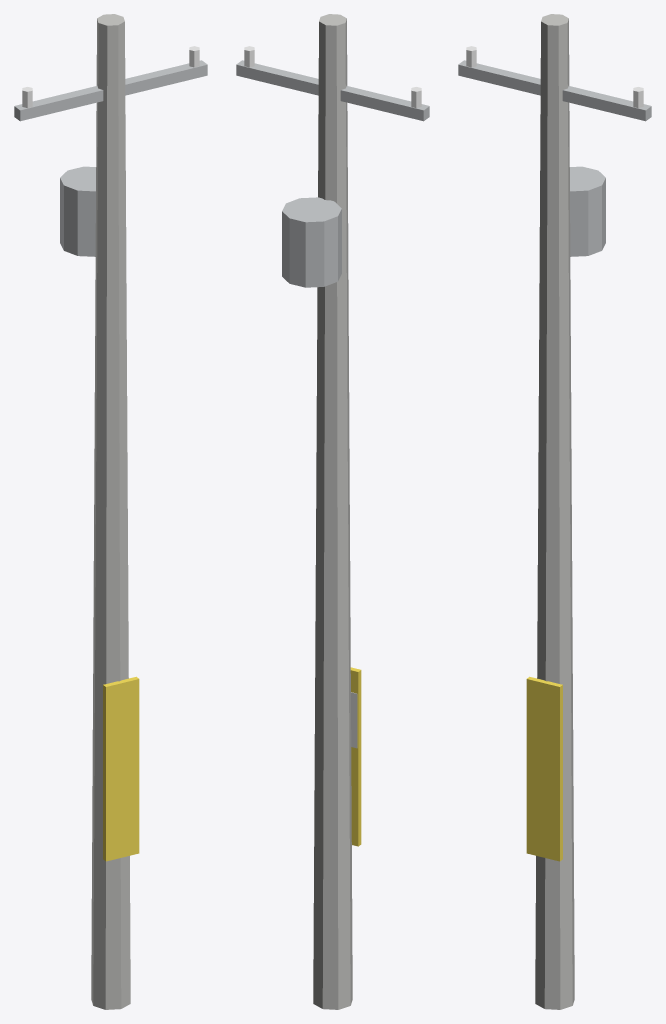
File: denchu.glb
The picture shows the model from 3 angles, left to right: view 1: azimuth 30°, elevation 25°; view 2: azimuth 150°, elevation 25°; view 3: azimuth 330°, elevation 25°; orthographic projection.
Visible parts, largest first — view 1: denchu; view 2: denchu; view 3: denchu.
Part boxes in pixels (left/top/right/bottom): denchu: left=14, top=14, right=207, bottom=1009; denchu: left=236, top=14, right=429, bottom=1009; denchu: left=458, top=14, right=651, bottom=1009.
Bounding box in the file's own units: 1.8 × 9 × 0.7828.
